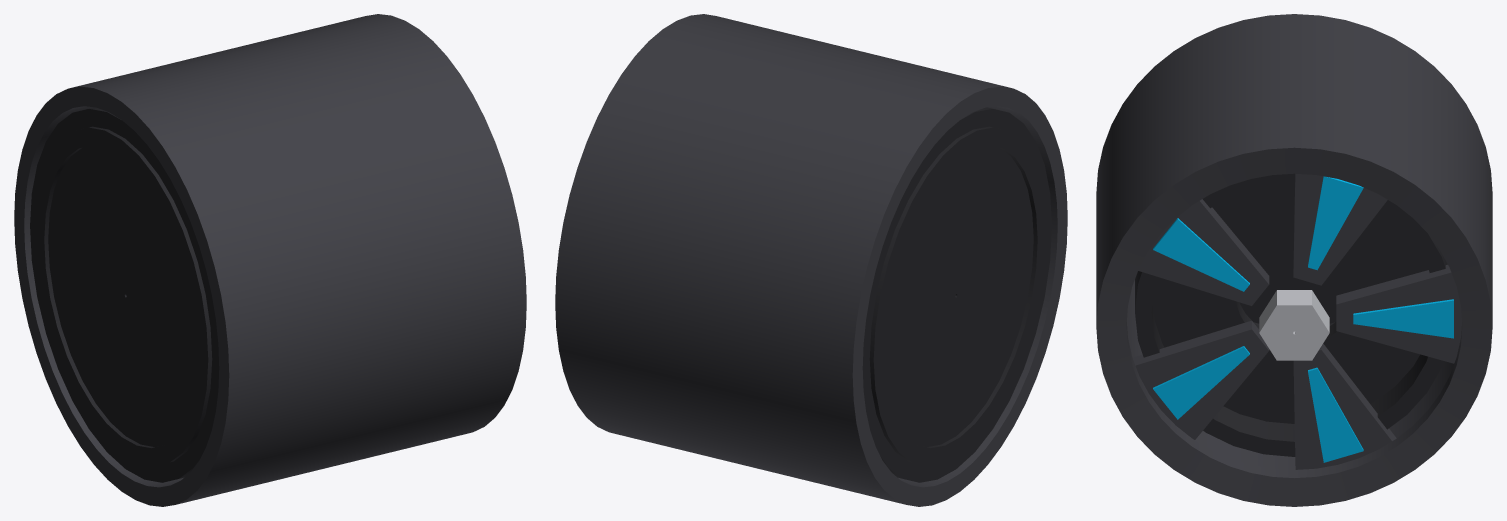
File: star_rear.glb
3 renders of one model, left to right at view 1: azimuth 30°, elevation 25°; view 2: azimuth 150°, elevation 25°; view 3: azimuth 270°, elevation 25°, orthographic. The views are drawn at different scales.
Parts seen in each view (by area): view 1: Rim_star_rear; view 2: Rim_star_rear; view 3: Rim_star_rear.
Part boxes in pixels (x1,y1,x2,y2): Rim_star_rear: (14,14,526,506); Rim_star_rear: (555,14,1067,506); Rim_star_rear: (1096,14,1492,506).
Size of the model in its own units: 0.393 by 0.472 by 0.472.
